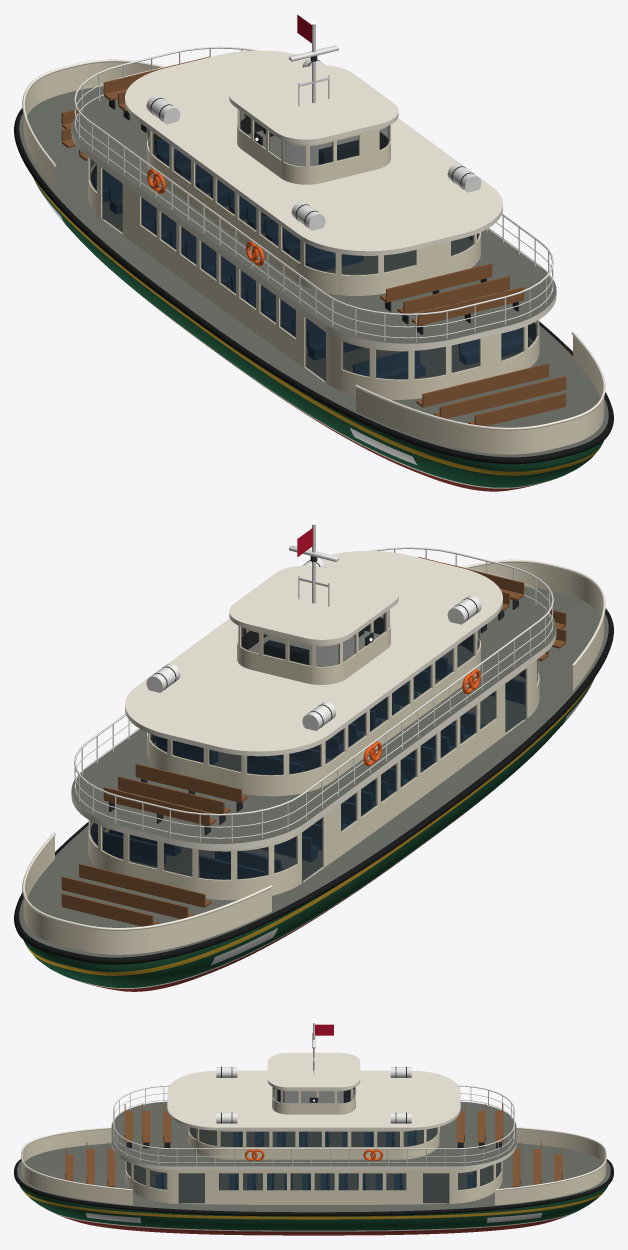
Rendered from ferry.glb.
3 renders of one model, top to bottom at view 1: azimuth 30°, elevation 25°; view 2: azimuth 150°, elevation 25°; view 3: azimuth 270°, elevation 25°, orthographic. The views are drawn at different scales.
Visible parts, largest first — view 1: Body; view 2: Body; view 3: Body, Trim.
Part boxes in pixels (<box>): Body: <box>14,20,613,491</box>; Body: <box>14,520,613,991</box>; Body: <box>14,1020,613,1235</box>; Trim: <box>86,1213,541,1222</box>.
Size of what is drawn, in the model's own units: 10.3 by 12.58 by 34.38.
